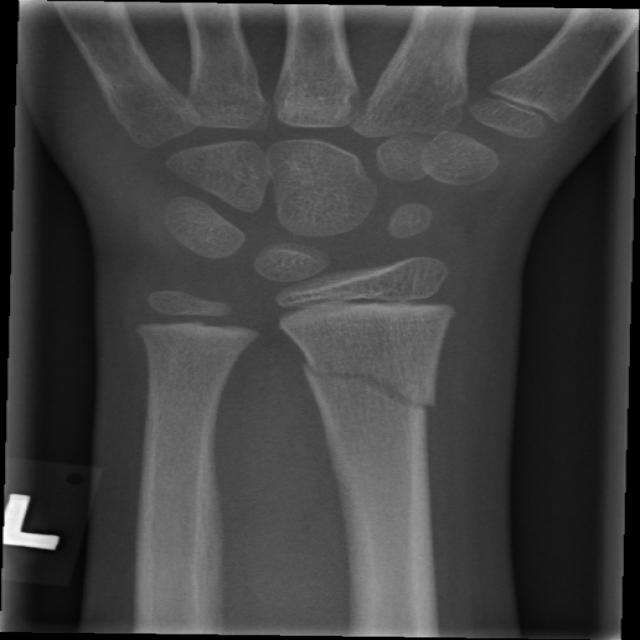radius fracture: (274, 330, 490, 503)
